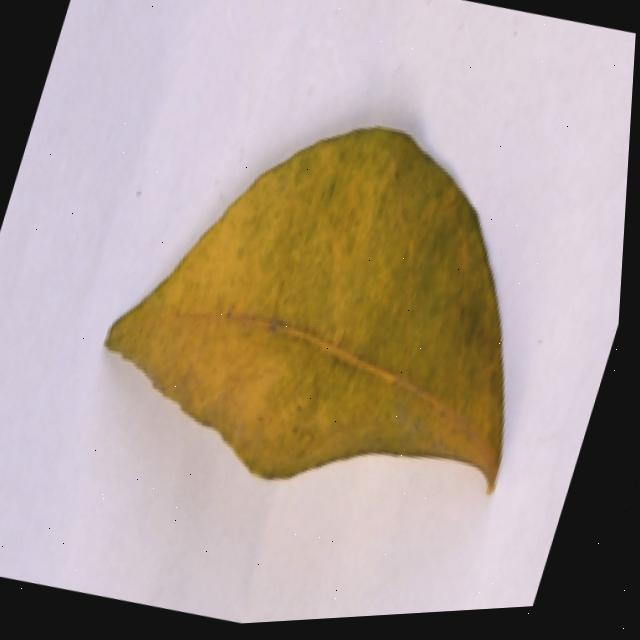canker: (109, 128, 502, 488)
